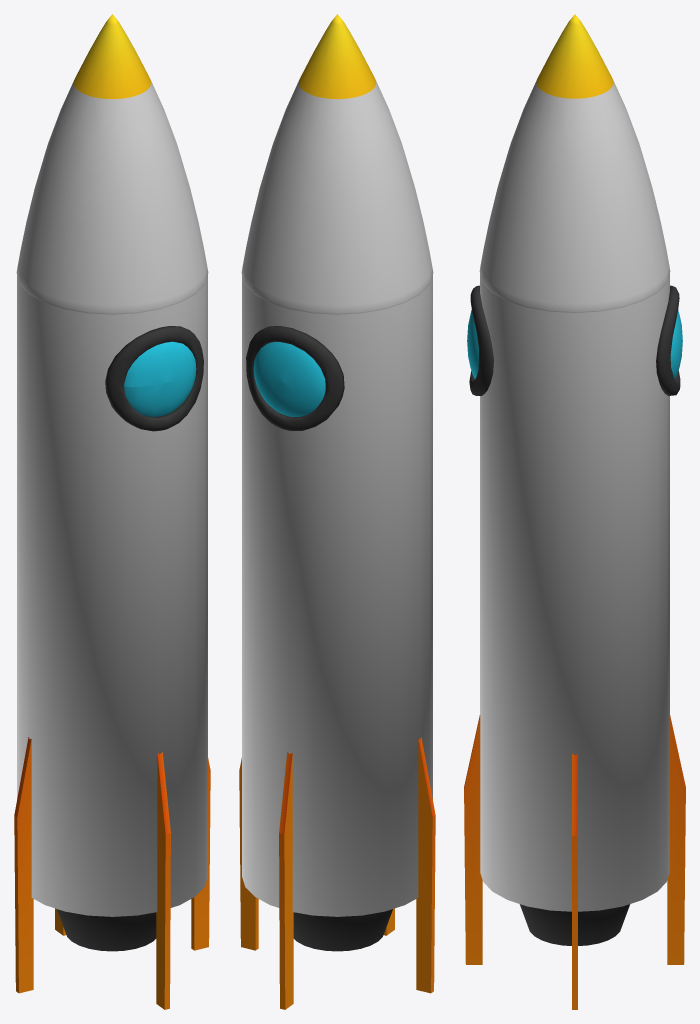
File: rocket (1).fbx
3 views of the same model, side by side, from view 1: azimuth 30°, elevation 25°; view 2: azimuth 150°, elevation 25°; view 3: azimuth 270°, elevation 25° (orthographic).
Visible parts, largest first — view 1: model_1.001, model_1.003, model_5, Cube.003, model_3, model_1.004, Cube, model_1.002, Cube.001; view 2: model_1.001, model_1.003, model_5, Cube.003, model_3, model_1.004, Cube.002, model_1.002, Cube.001; view 3: model_1.001, model_1.003, model_1.004, Cube, Cube.002, model_3, model_1.002, Cube.001, model_5.
Boxes of the visible parts, <box> form: model_1.001: <box>17,275,207,916</box>; model_1.003: <box>16,80,208,314</box>; model_5: <box>124,341,196,416</box>; Cube.003: <box>14,737,33,993</box>; model_3: <box>105,326,203,431</box>; model_1.004: <box>73,14,151,99</box>; Cube: <box>156,752,170,1009</box>; model_1.002: <box>57,909,156,951</box>; Cube.001: <box>191,758,210,950</box>; model_1.001: <box>242,275,432,916</box>; model_1.003: <box>241,80,433,314</box>; model_5: <box>253,342,325,416</box>; Cube.003: <box>416,737,435,993</box>; model_3: <box>246,326,344,430</box>; model_1.004: <box>298,14,376,99</box>; Cube.002: <box>279,752,293,1009</box>; model_1.002: <box>293,909,392,951</box>; Cube.001: <box>239,758,258,950</box>; model_1.001: <box>480,273,669,911</box>; model_1.003: <box>479,80,670,312</box>; model_1.004: <box>536,14,613,98</box>; Cube: <box>464,715,482,964</box>; Cube.002: <box>667,715,685,964</box>; model_3: <box>469,285,680,395</box>; model_1.002: <box>519,904,630,945</box>; Cube.001: <box>572,753,577,1009</box>; model_5: <box>467,309,682,379</box>.
Bounding box in the file's own units: 46.75 × 221 × 46.75.
